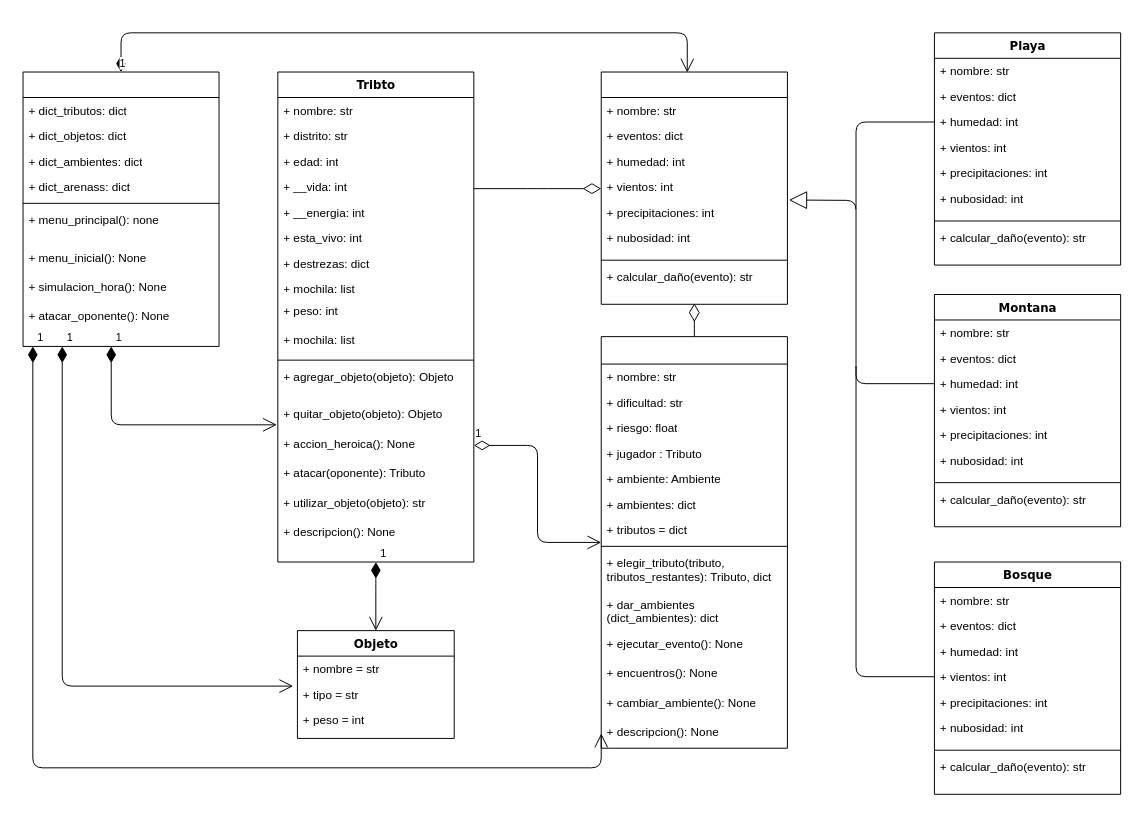
Some shapes in this 1138 by 813 pixel diagram are drawn without their labels. Here are the shapes that lost their labels. From the top down, the box of each, then its label:
(600, 71, 787, 304): Ambiente
(22, 71, 219, 346): DCCapitolio
(600, 336, 787, 748): Arena
